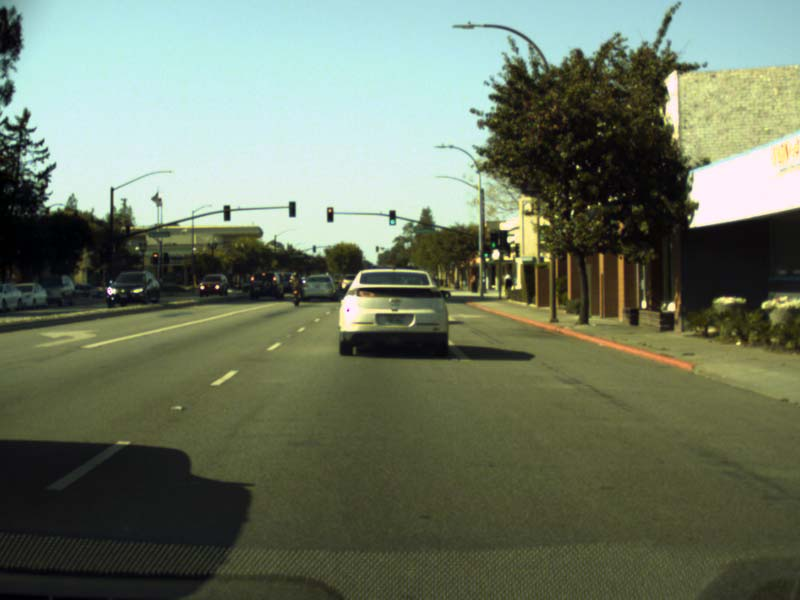Green: (388, 208, 397, 224), (490, 232, 498, 248), (483, 244, 489, 257)
Red: (326, 207, 333, 222)
